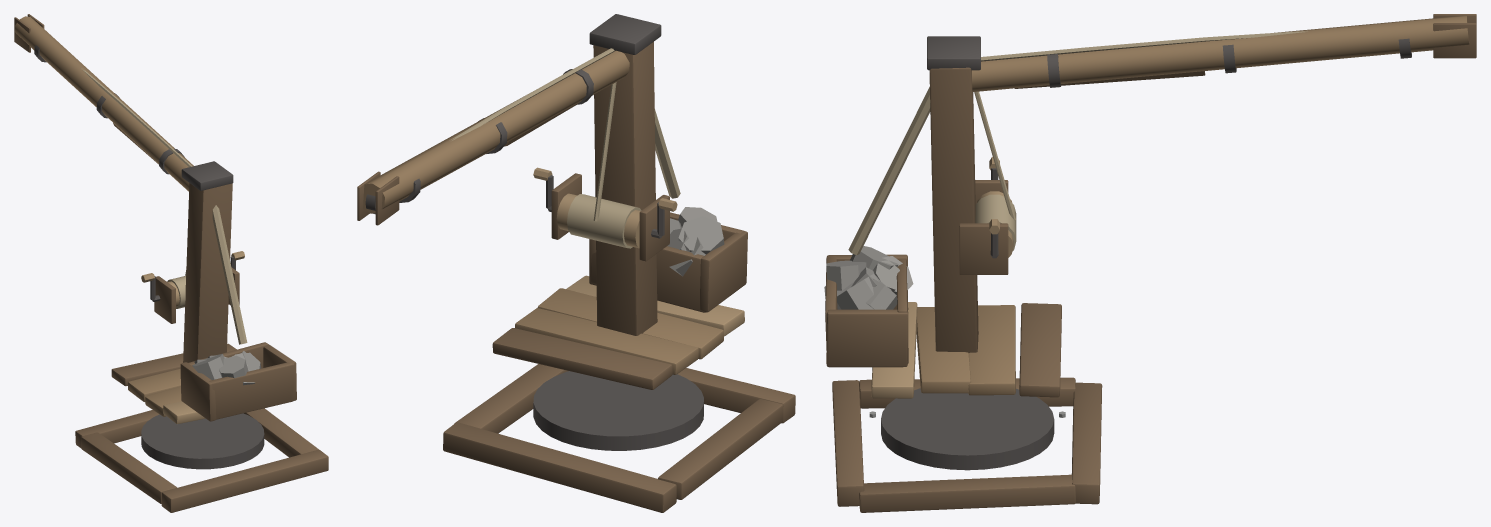
File: wood_crane.glb
3 renders of one model, left to right at view 1: azimuth 30°, elevation 25°; view 2: azimuth 150°, elevation 25°; view 3: azimuth 270°, elevation 25°, orthographic. The views are drawn at different scales.
Visible parts, largest first — view 1: Top, Part, Jib; view 2: Top, Part, Jib; view 3: Top, Part, Jib.
Boxes of the visible parts, x1=… form: Top: x1=111, y1=161, x2=296, y2=423; Part: x1=75, y1=408, x2=328, y2=512; Jib: x1=14, y1=14, x2=193, y2=191; Top: x1=492, y1=14, x2=747, y2=389; Part: x1=443, y1=364, x2=795, y2=512; Jib: x1=357, y1=48, x2=629, y2=225; Top: x1=824, y1=36, x2=1061, y2=398; Part: x1=832, y1=377, x2=1102, y2=512; Jib: x1=972, y1=14, x2=1476, y2=91.
Size of the model in its own units: 1.01 by 1.8 by 2.41.
